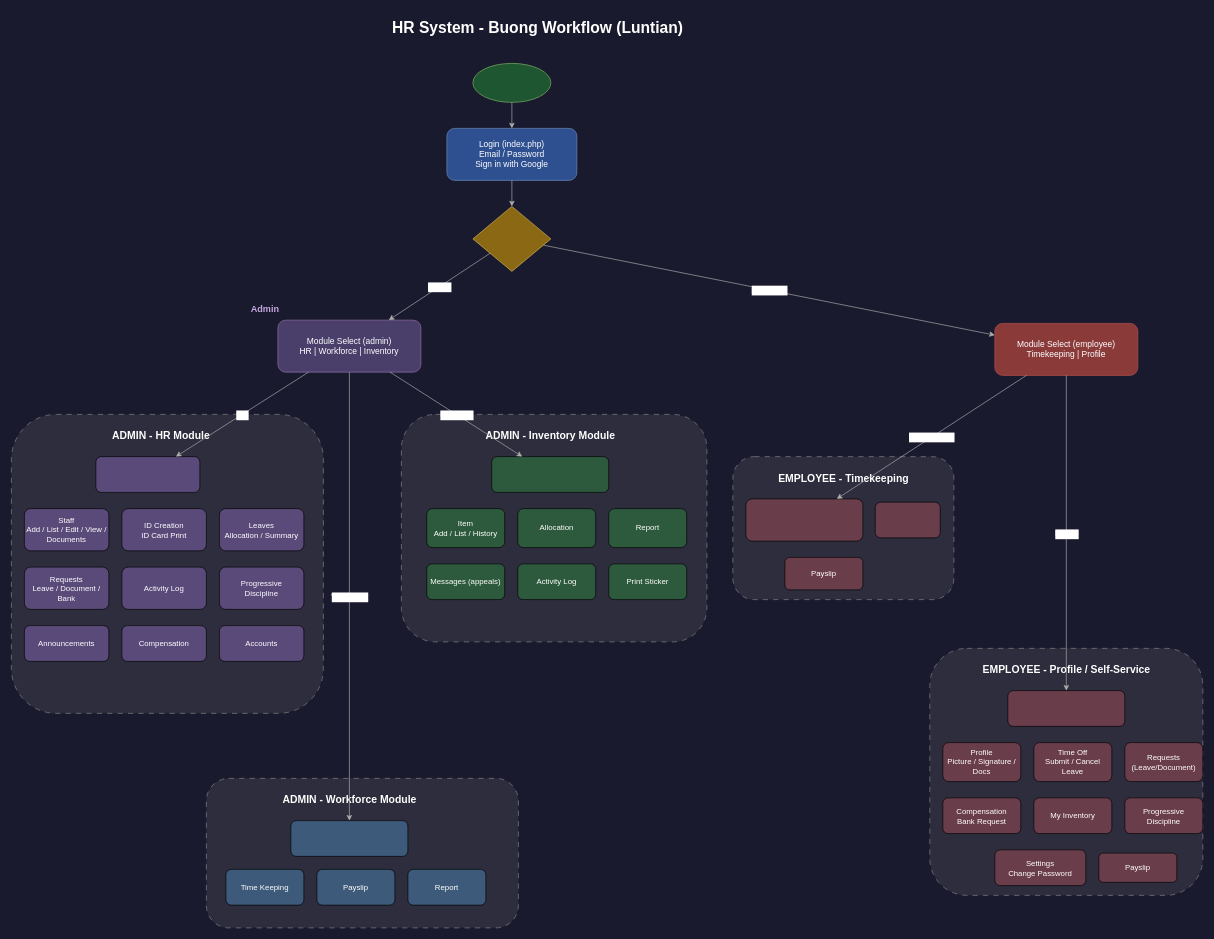
Image size: 1214x939. Some labels were removed from this diagram. Here are the shapes that lost their labels. From the top down, the centre of each, then its label:
pixel 511 82: Start
pixel 511 238: Role?
pixel 147 474: Dashboard (admin/index.php)
pixel 550 474: Inventory (inventory.php)
pixel 804 519: Timesheet (timekeeping/index.php) Overview / Fill-up
pixel 907 519: save-timesheet.php get-day-details.php
pixel 1066 708: Dashboard (employee/index.php)
pixel 349 838: Dashboard (workforce/index.php)
